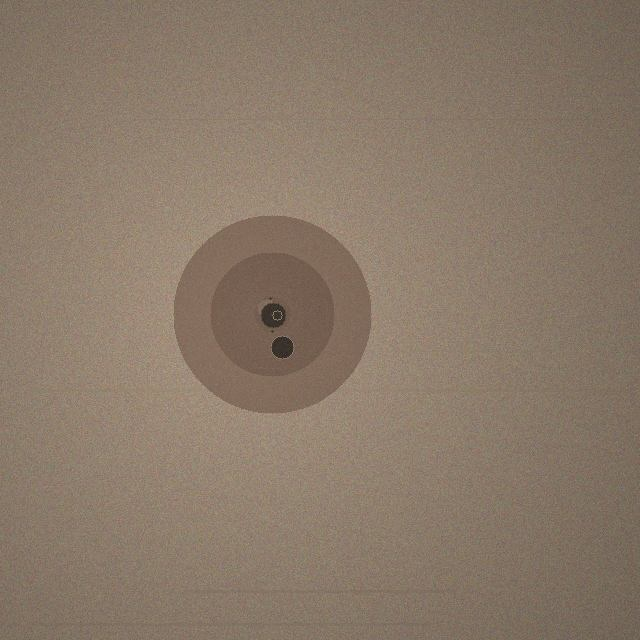shrinkage: (173, 215, 371, 413)
